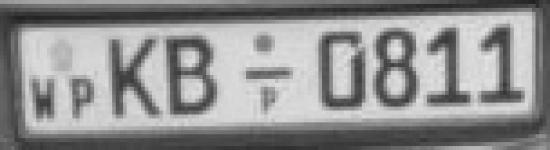-: (240, 63, 297, 84)
0: (314, 26, 370, 117)
1: (476, 18, 529, 110), (423, 21, 474, 112)
8: (371, 23, 424, 114)
B: (164, 31, 223, 122)
K: (106, 34, 164, 120)
P: (66, 73, 100, 121)
W: (26, 74, 60, 123)
